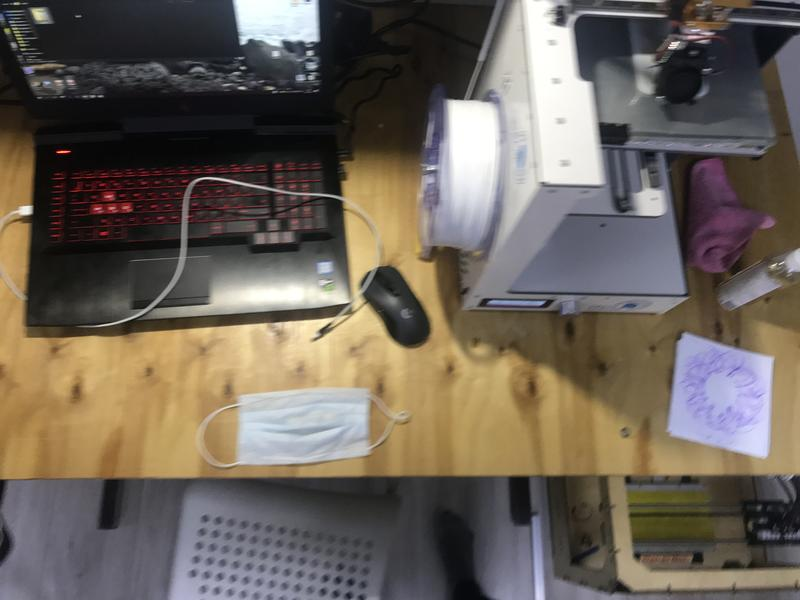medical_mask: (199, 389, 411, 464)
